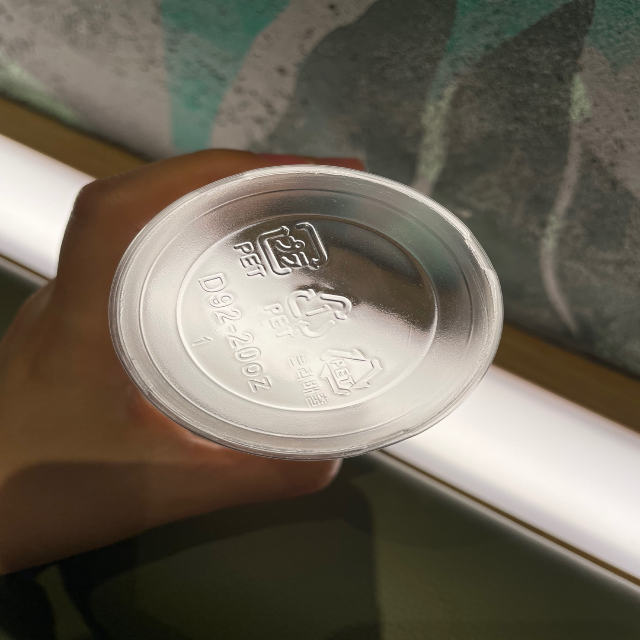pet: (232, 216, 337, 282), (288, 343, 386, 405), (263, 283, 356, 343)
